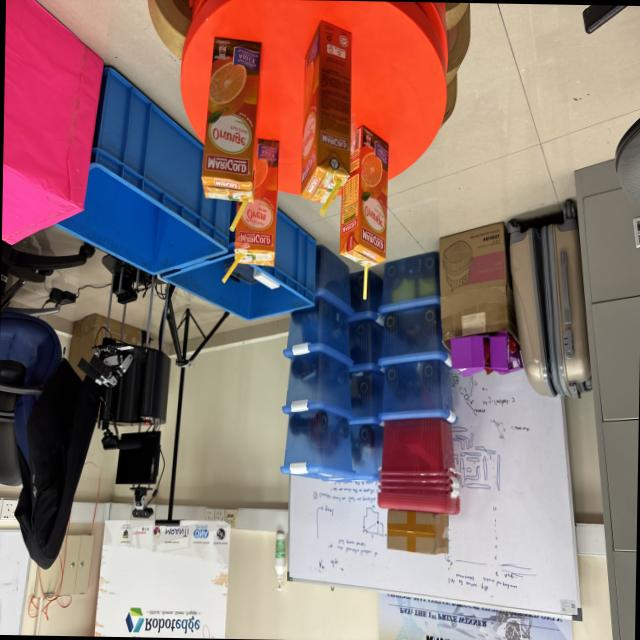drink_carton: (192, 32, 270, 234), (288, 12, 361, 226), (336, 120, 395, 312), (220, 130, 282, 287)
